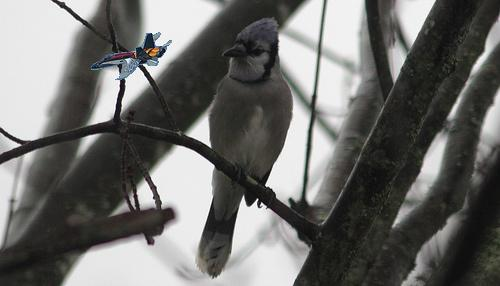tampered: (92, 33, 172, 80)
